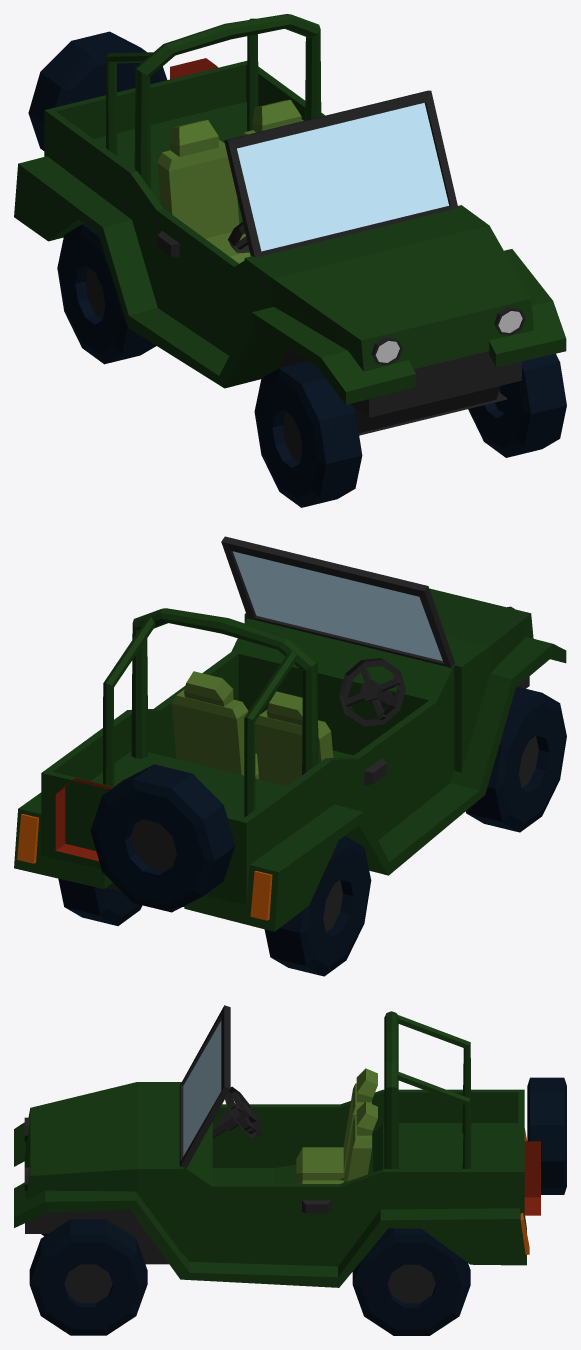
File: jeep.glb
3 views of the same model, one above another, from view 1: azimuth 30°, elevation 25°; view 2: azimuth 150°, elevation 25°; view 3: azimuth 270°, elevation 25° (orthographic). The views are drawn at different scales.
Parts seen in each view (by area): view 1: Jeep; view 2: Jeep; view 3: Jeep.
Boxes of the visible parts, bbox=[...] form: Jeep: bbox=[14, 14, 566, 507]; Jeep: bbox=[14, 536, 566, 976]; Jeep: bbox=[14, 1005, 566, 1335].
Size of the model in its own units: 2.04 by 2.33 by 4.56.
1 material, 1 textured.
